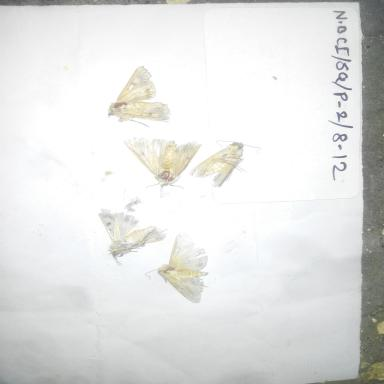abw: (140, 228, 214, 308), (100, 62, 176, 132), (118, 136, 203, 198), (90, 205, 172, 268), (187, 135, 265, 189)
